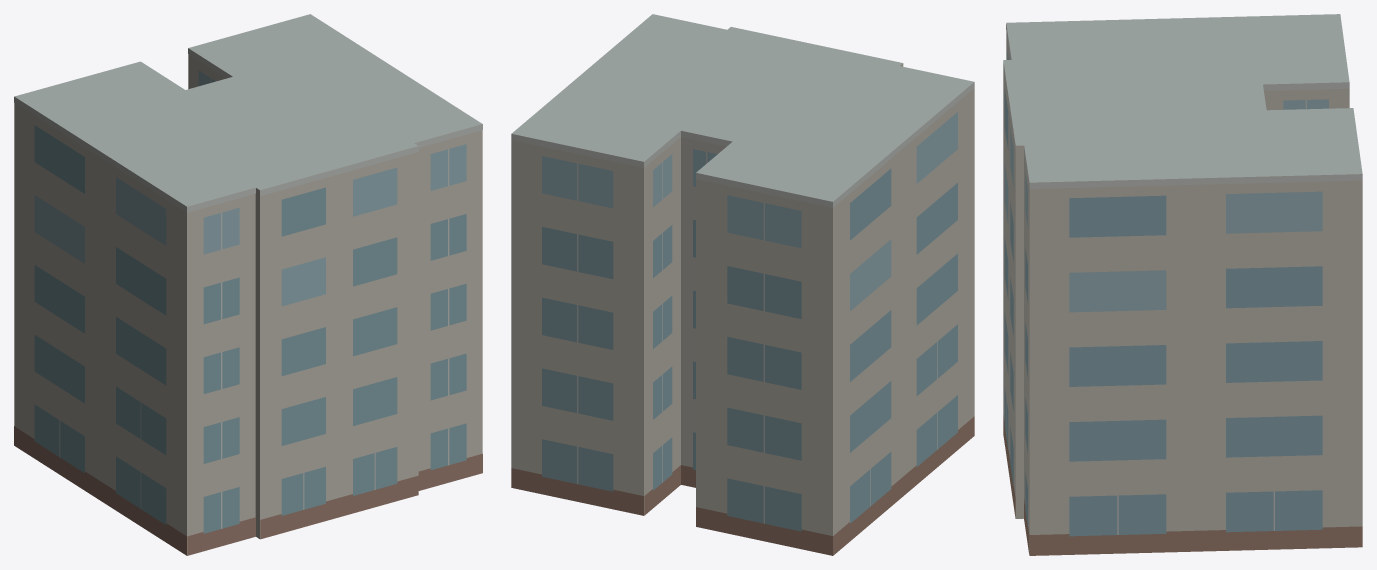
File: survey-upis-32889410.glb
3 views of the same model, side by side, from view 1: azimuth 30°, elevation 25°; view 2: azimuth 150°, elevation 25°; view 3: azimuth 270°, elevation 25° (orthographic). The views are drawn at different scales.
Parts seen in each view (by area): view 1: survey-upis-32889410.tmp; view 2: survey-upis-32889410.tmp; view 3: survey-upis-32889410.tmp.
Part boxes in pixels (x1,y1,x2,y2): survey-upis-32889410.tmp: (14, 14, 482, 555); survey-upis-32889410.tmp: (511, 14, 974, 555); survey-upis-32889410.tmp: (1003, 14, 1362, 555).
Size of the model in its own units: 13.77 by 14.2 by 12.4.
